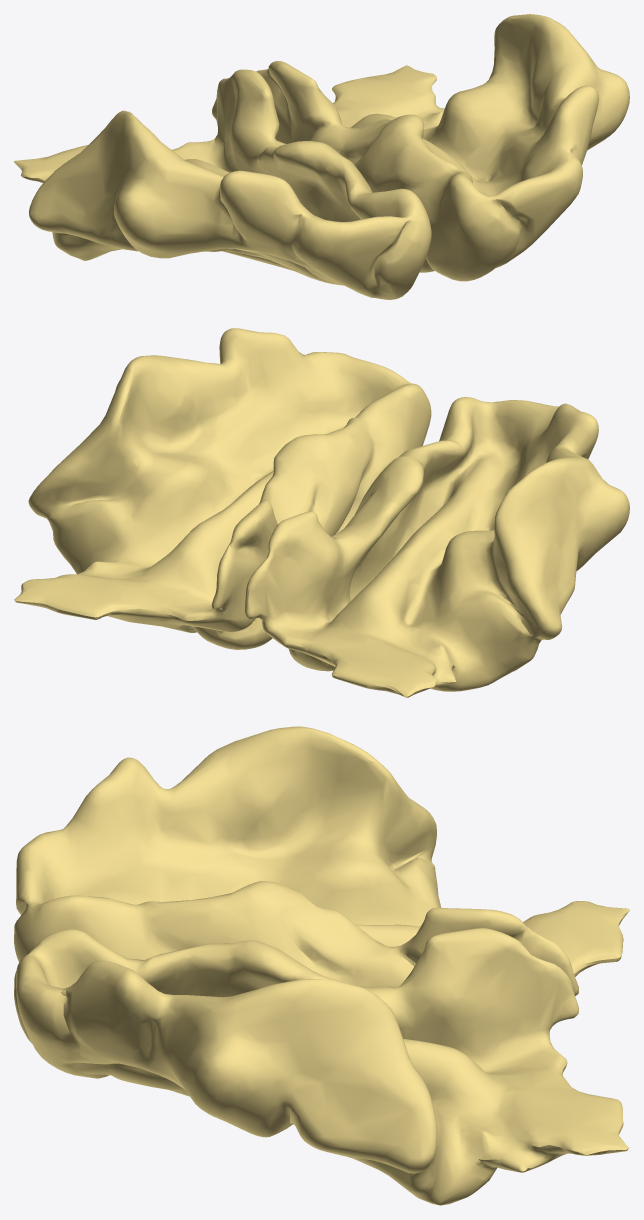
3 views of the same model, one above another, from view 1: azimuth 30°, elevation 25°; view 2: azimuth 150°, elevation 25°; view 3: azimuth 270°, elevation 25° (orthographic). The views are drawn at different scales.
Visible parts, largest first — view 1: BP51; view 2: BP51; view 3: BP51.
Boxes of the visible parts, bbox=[...] form: BP51: bbox=[14, 14, 629, 299]; BP51: bbox=[14, 328, 629, 697]; BP51: bbox=[14, 726, 629, 1205].
Bounding box in the file's own units: 0.0788 × 0.0287 × 0.0637.
